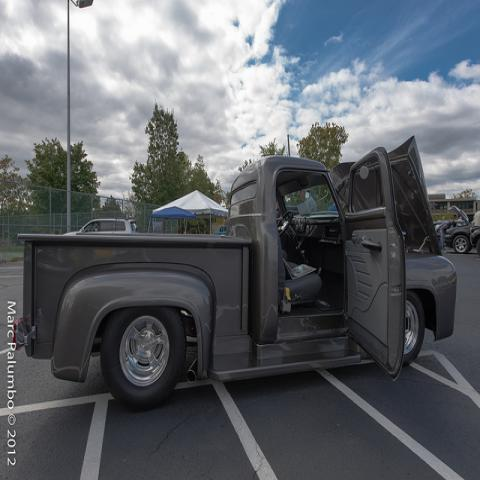car: (445, 206, 474, 255), (72, 219, 139, 234), (436, 220, 464, 237)
truck: (11, 137, 457, 413)
